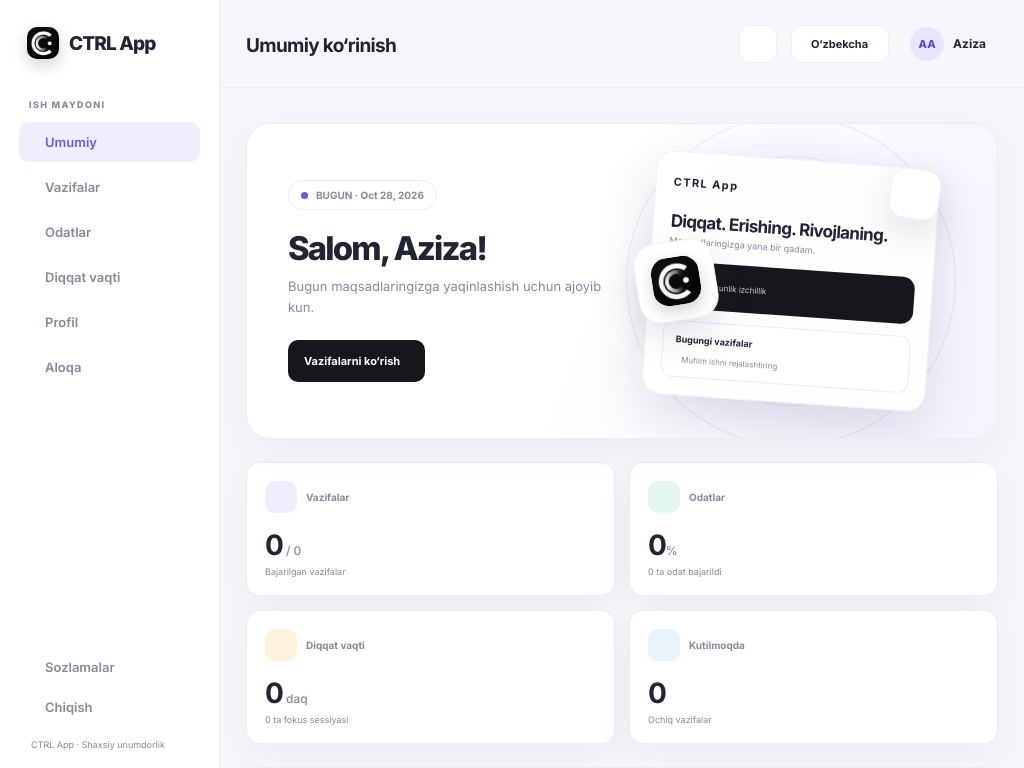
it: focus timer continues while navigating to another page and back
This screenshot has width=1024, height=768.
Click the button "Diqqat vaqti": (110, 277) [19,257,200,297]
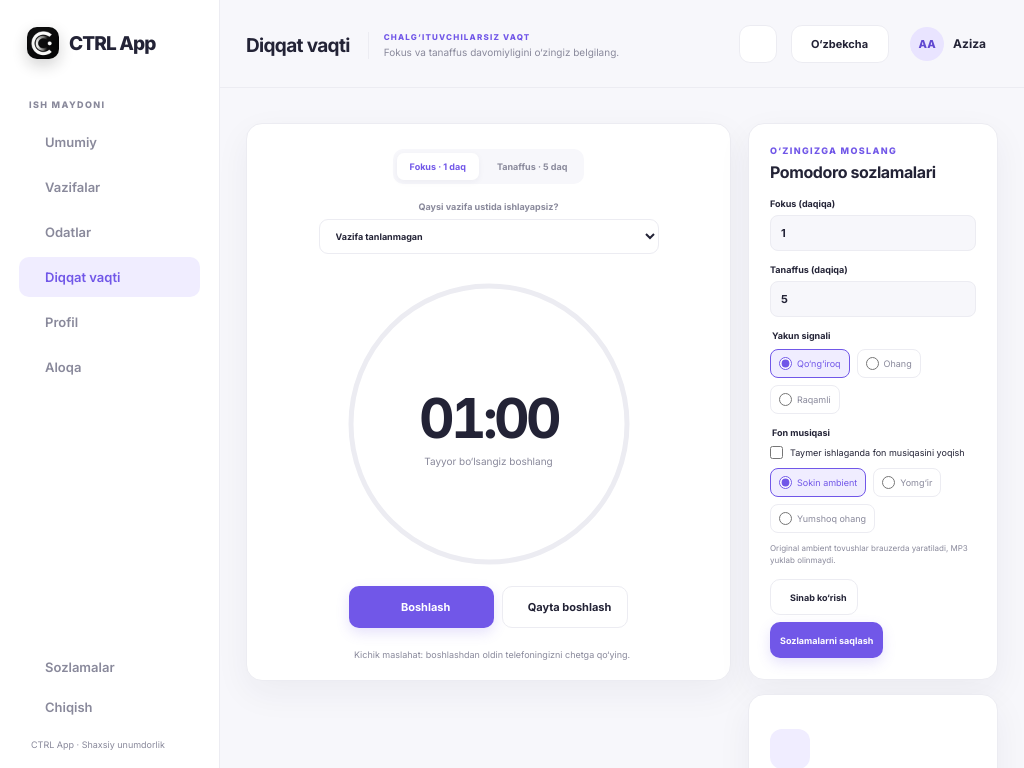
Click the button "Boshlash": (421, 607) [349,586,494,628]
Wait 15000 ms
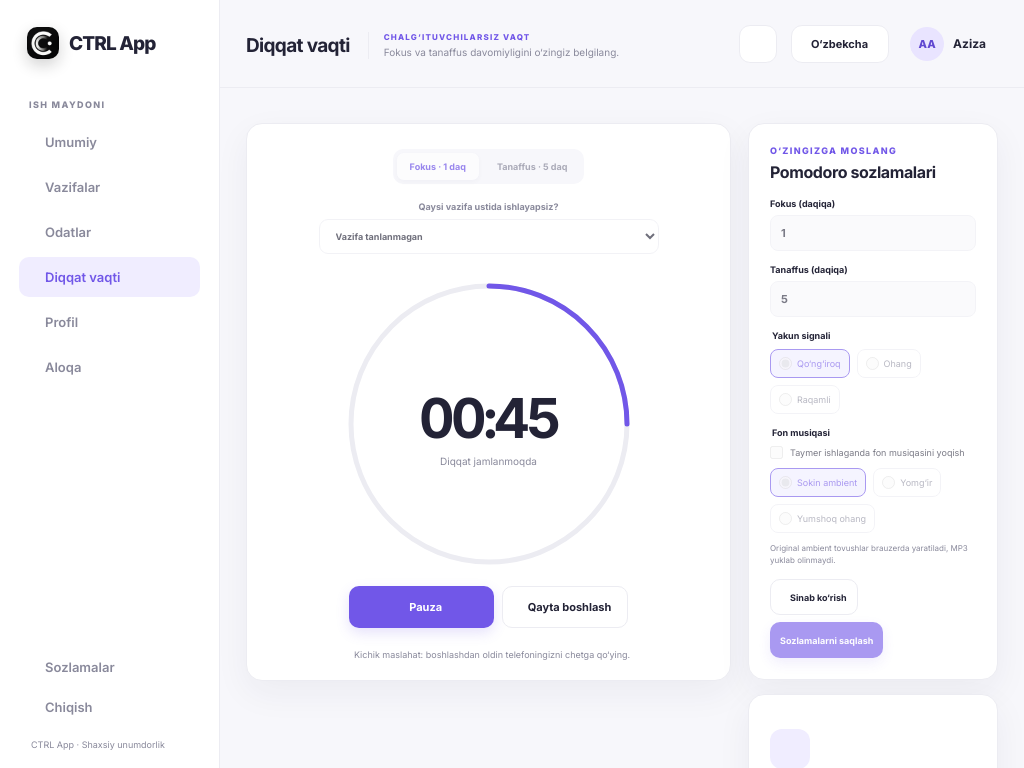
Click the button "Vazifalar": (110, 187) [19,167,200,207]
Wait 10000 ms
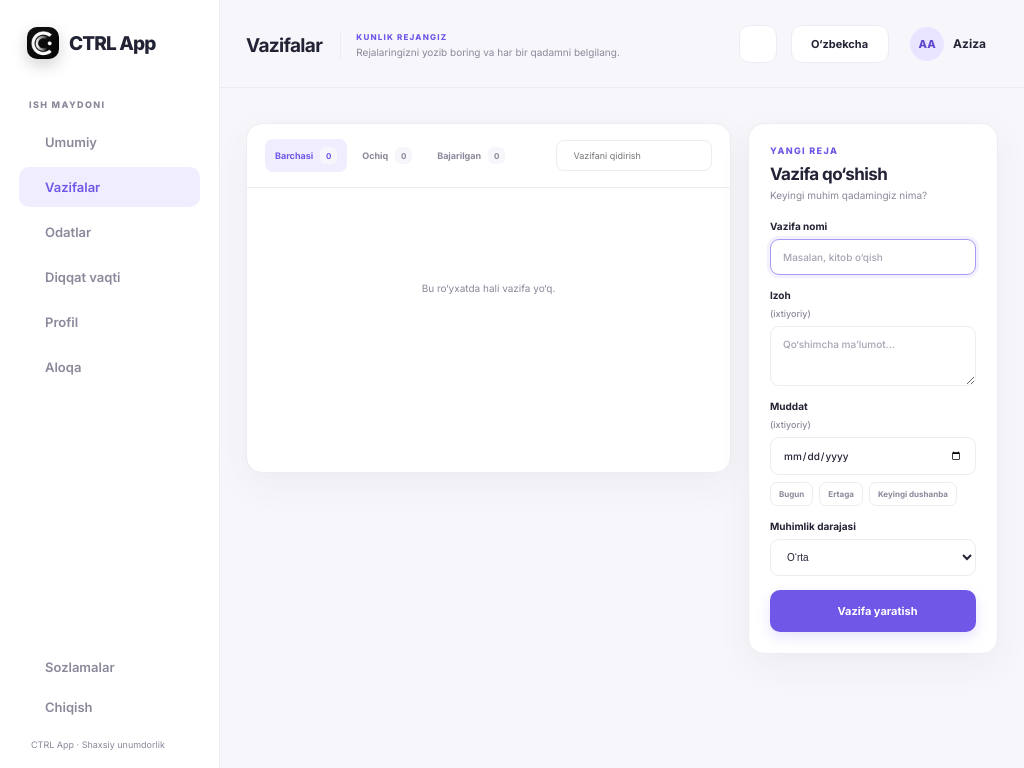
Click the button "Diqqat vaqti": (110, 277) [19,257,200,297]
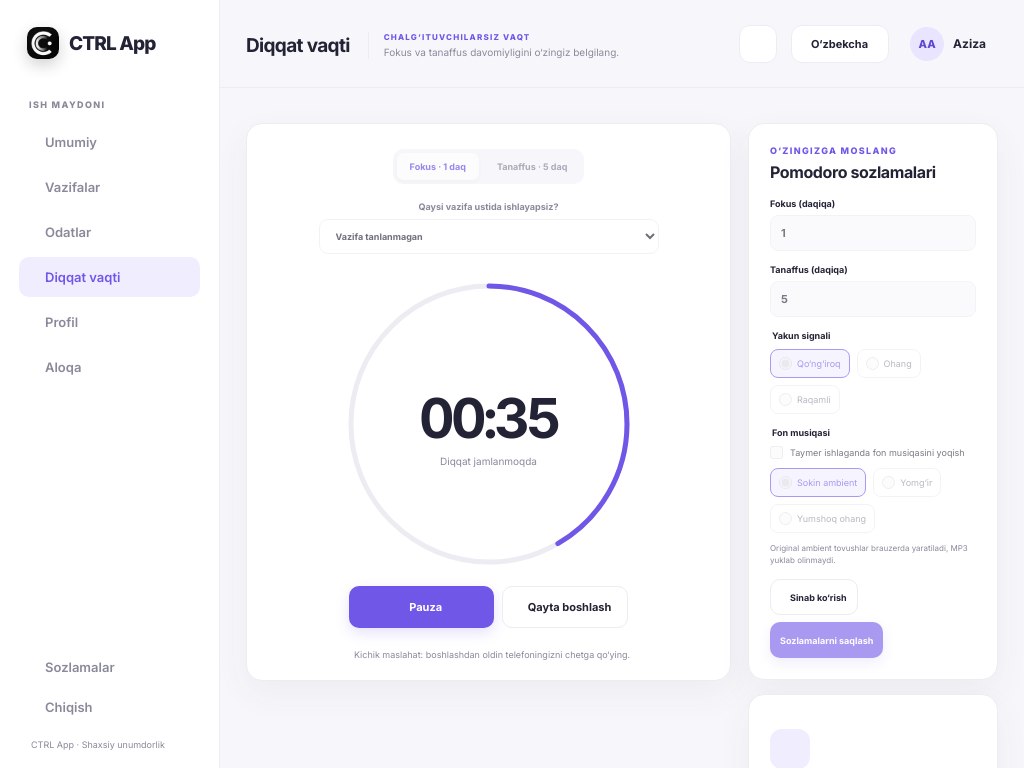
Now the picture named "00:35 qoldi" is shown, box [338,274,638,574]
Now the button "Pauza" is shown, box [349,586,494,628]
